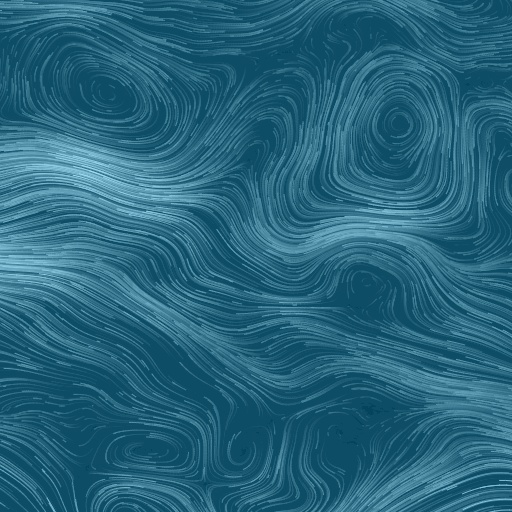eddy: (343, 58, 455, 198), (59, 52, 149, 132), (101, 425, 197, 477), (215, 417, 275, 482), (346, 265, 390, 306)
